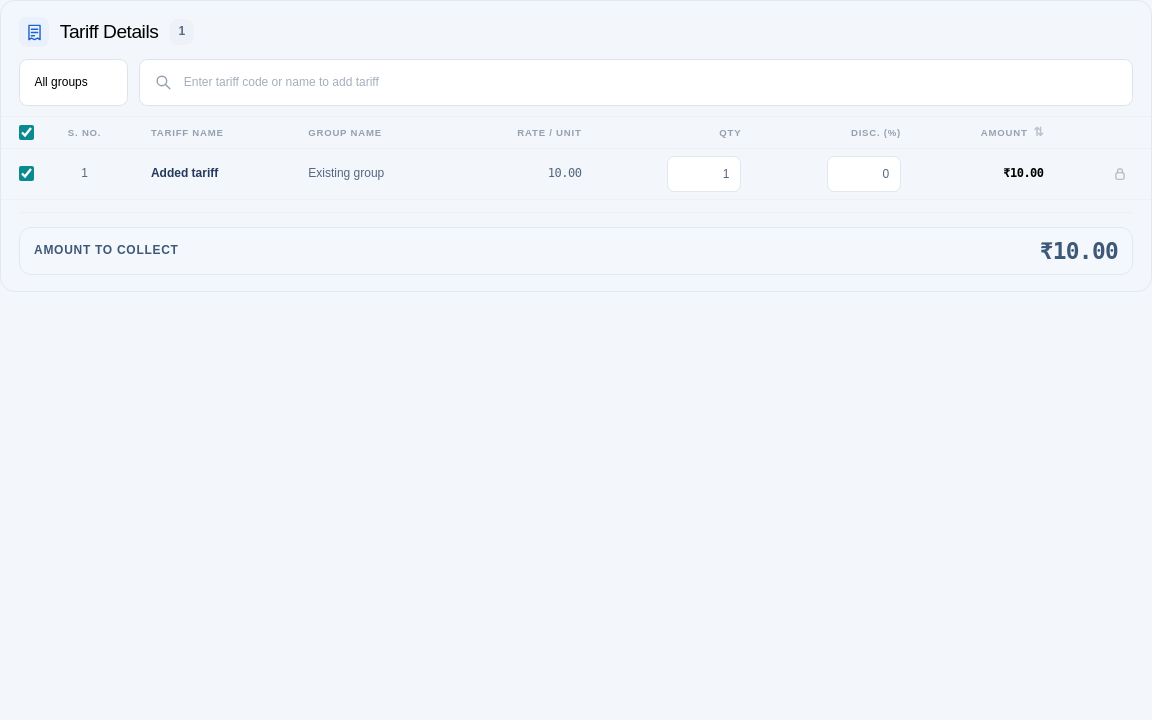
it: API groups filter suggestions and the Enter picker using the same catalogue request
The image size is (1152, 720).
Expected: the column heading "Group Name" is shown, [292,116,454,148]
Expected: the text "Existing group" is shown, [292,148,454,199]
Select "Lab" in the dropdown named "Tariff group": (73,82) [20,60,127,105]
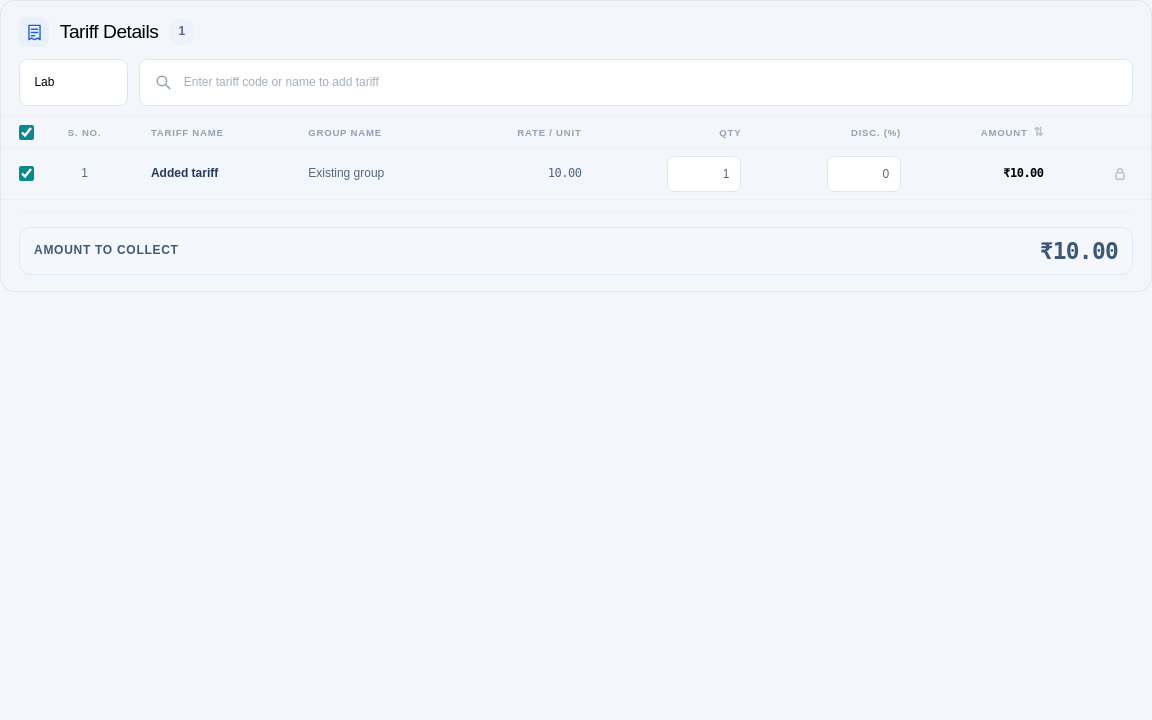
In the dropdown with placeholder "Enter tariff code or name to add tariff": (651,82) [184,76,1118,89], type "T"
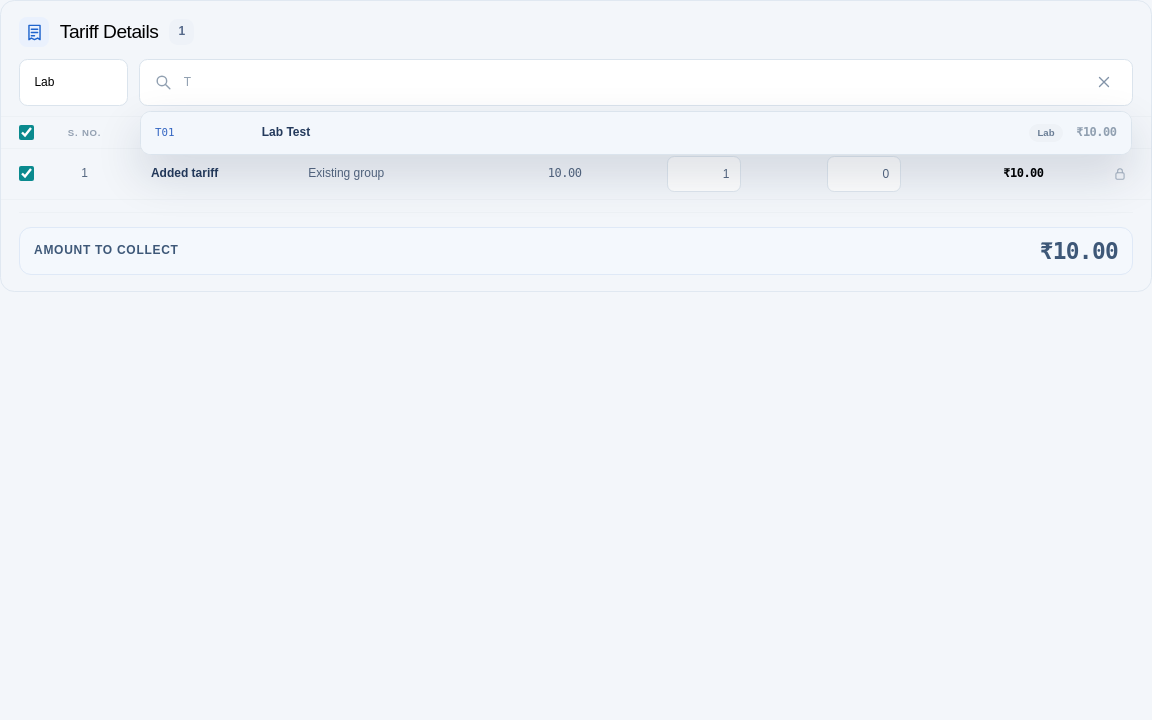
Now the option "T01 Lab Test Lab ₹10.00" is shown, box [141,112,1131,154]
Clear the dropdown with placeholder "Enter tariff code or name to add tariff": (632,82) [184,76,1079,89]
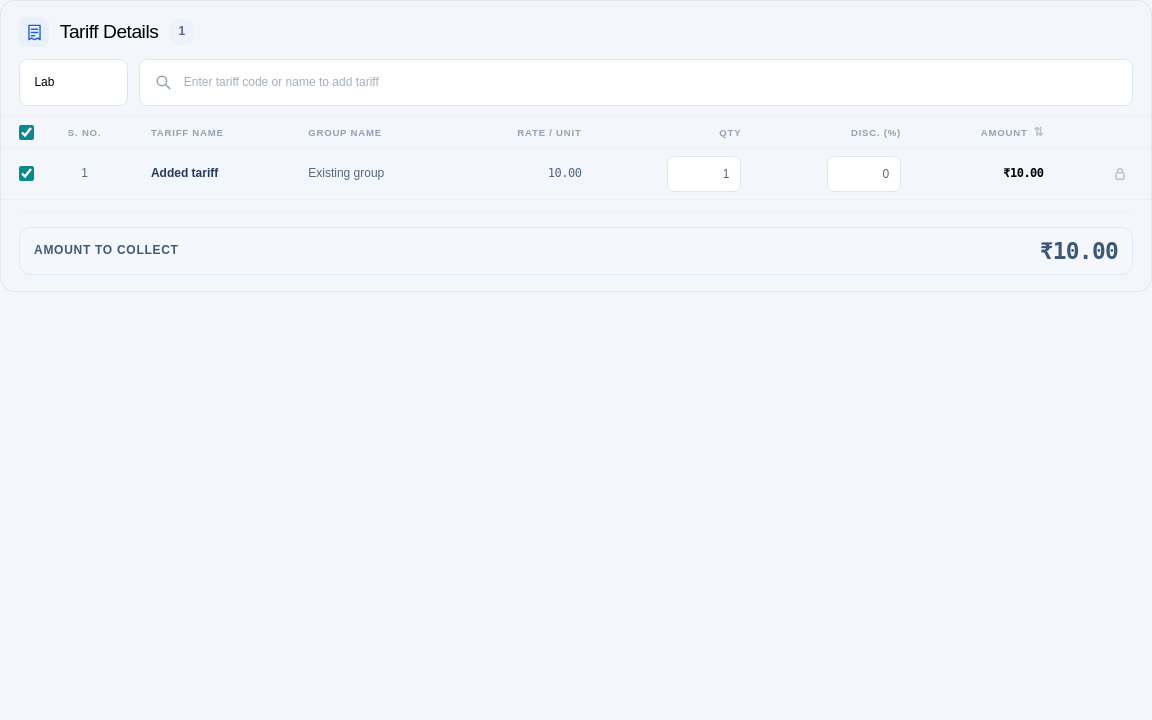
Press Enter in the dropdown with placeholder "Enter tariff code or name to add tariff", box [184,76,1118,89]
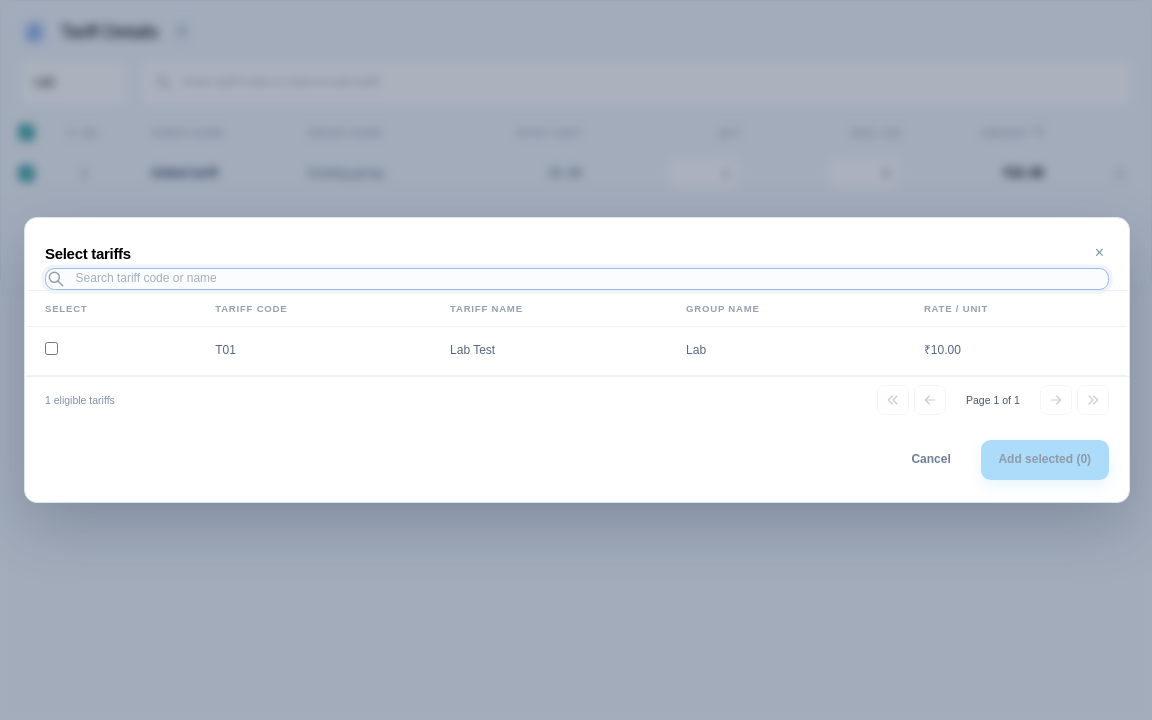
Now the checkbox named "Select Lab Test" is shown, box [45,342,58,355]
